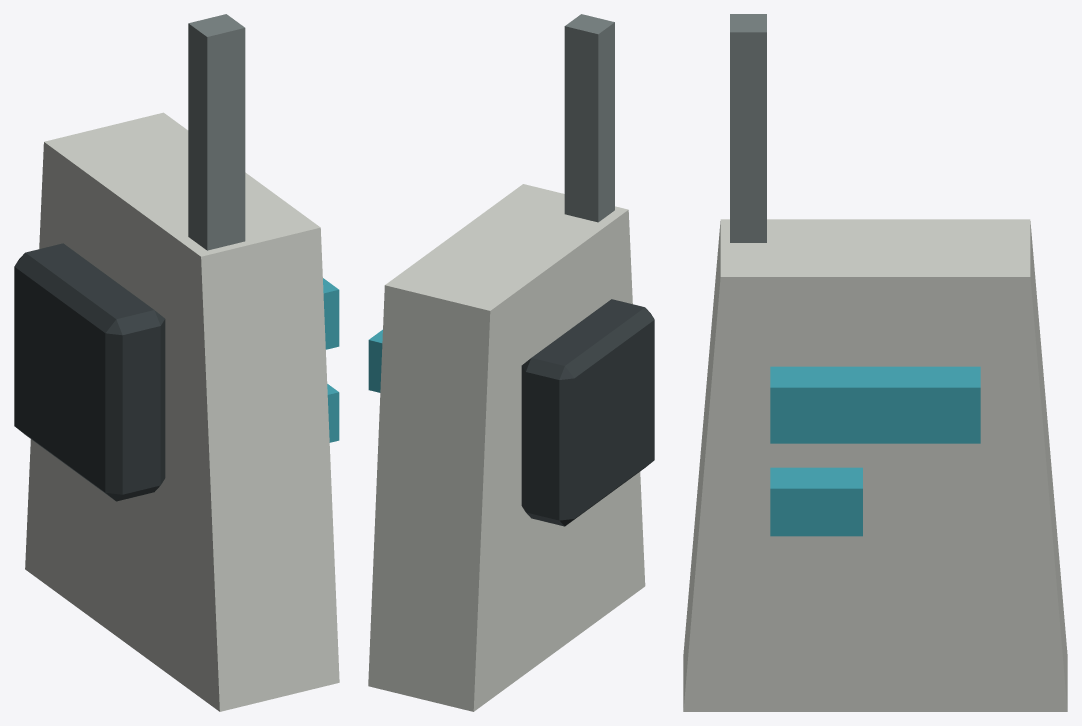
Rendered from person_tool_mechcluster.obj.
The picture shows the model from 3 angles, left to right: view 1: azimuth 30°, elevation 25°; view 2: azimuth 150°, elevation 25°; view 3: azimuth 270°, elevation 25°; orthographic projection. The views are drawn at different scales.
Parts seen in each view (by area): view 1: person_tool_mechcluster; view 2: person_tool_mechcluster; view 3: person_tool_mechcluster.
Part boxes in pixels (x1,y1,x2,y2): person_tool_mechcluster: (14, 14, 339, 711); person_tool_mechcluster: (368, 14, 654, 711); person_tool_mechcluster: (683, 14, 1067, 711).
Bounding box in the file's own units: 0.083 × 0.23 × 0.124.
